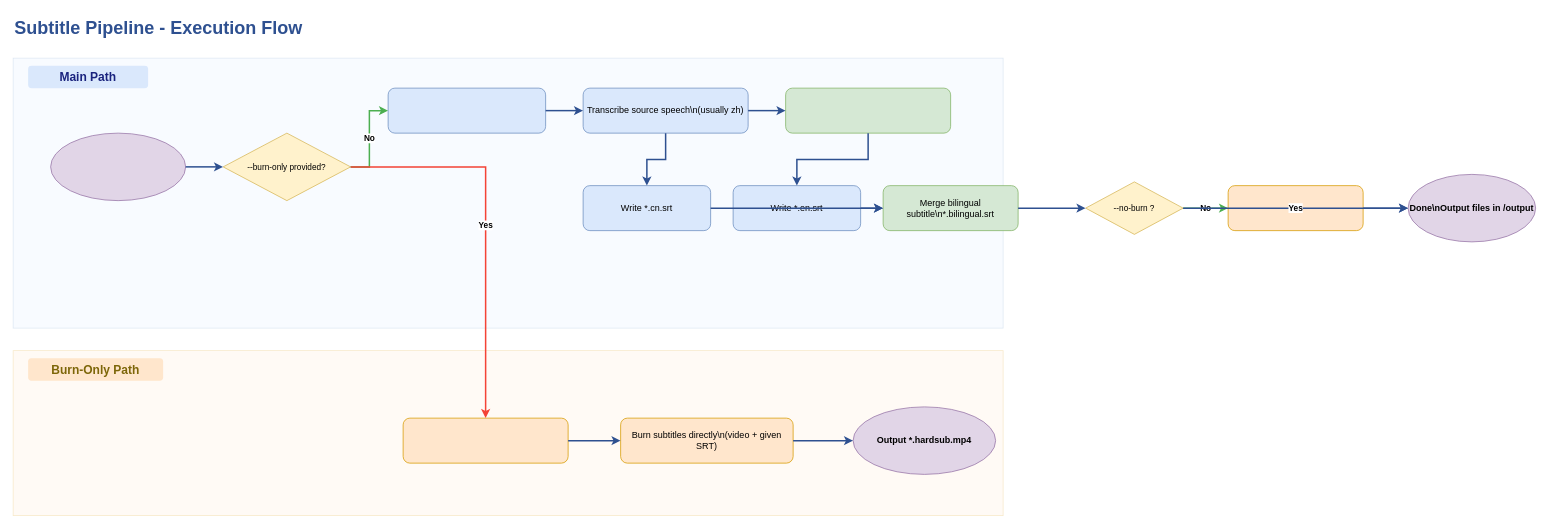
Image size: 1549x529. Some labels were removed from this diagram. Each missing label, with the box of its shape:
Check FFmpeg + input SRT: (402, 417, 568, 463)
FFmpeg hard burn\n*.hardsub.mp4: (1227, 185, 1363, 231)
Input video\npython auto_subtitle.py input.mp4: (50, 132, 186, 201)
Load faster-whisper model: (387, 87, 546, 133)
Translate audio to English: (785, 87, 951, 133)
